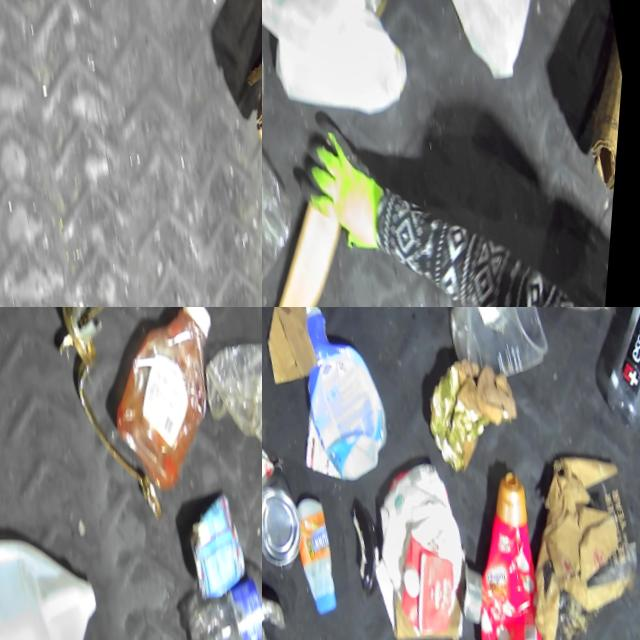can: (180, 480, 262, 601), (262, 454, 318, 570)
milk_jug: (363, 451, 491, 640), (262, 0, 425, 135), (409, 0, 569, 89)
non_white_jug: (87, 307, 252, 499), (447, 461, 571, 640), (0, 513, 131, 640)
plastic_bottle: (262, 107, 324, 307), (583, 307, 640, 433), (184, 556, 262, 640)
